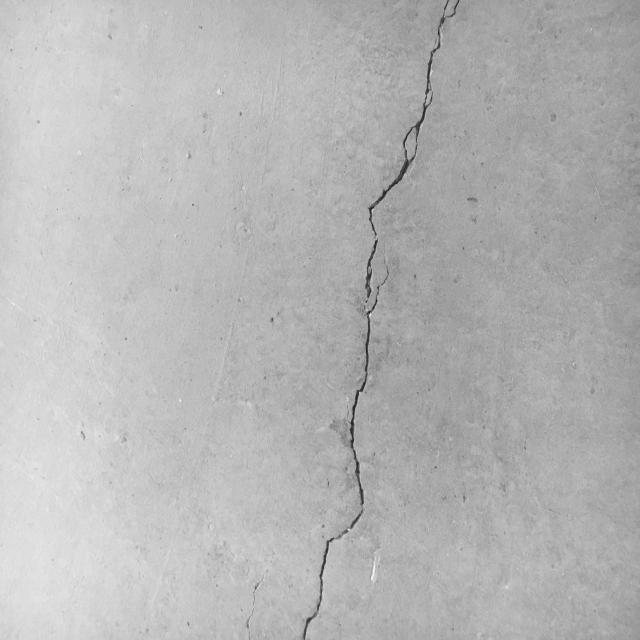SurfaceCrack: (268, 0, 497, 639)
